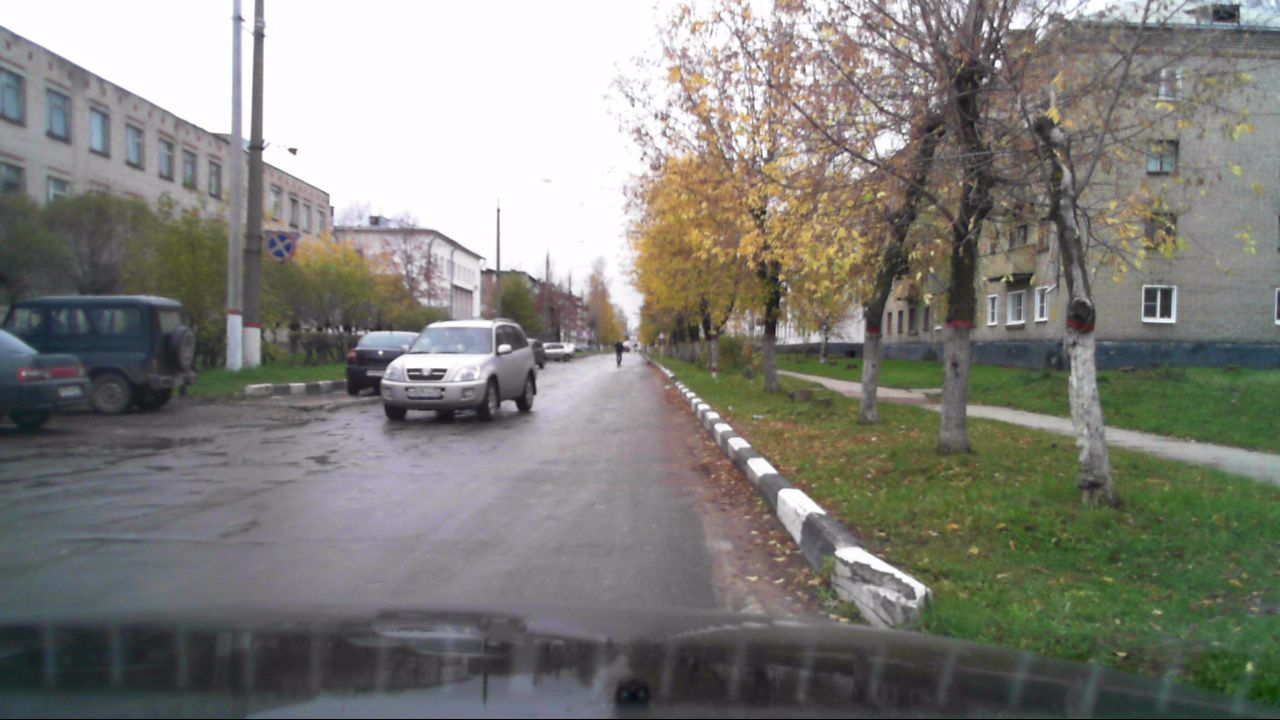No Parking: (264, 230, 296, 264)
